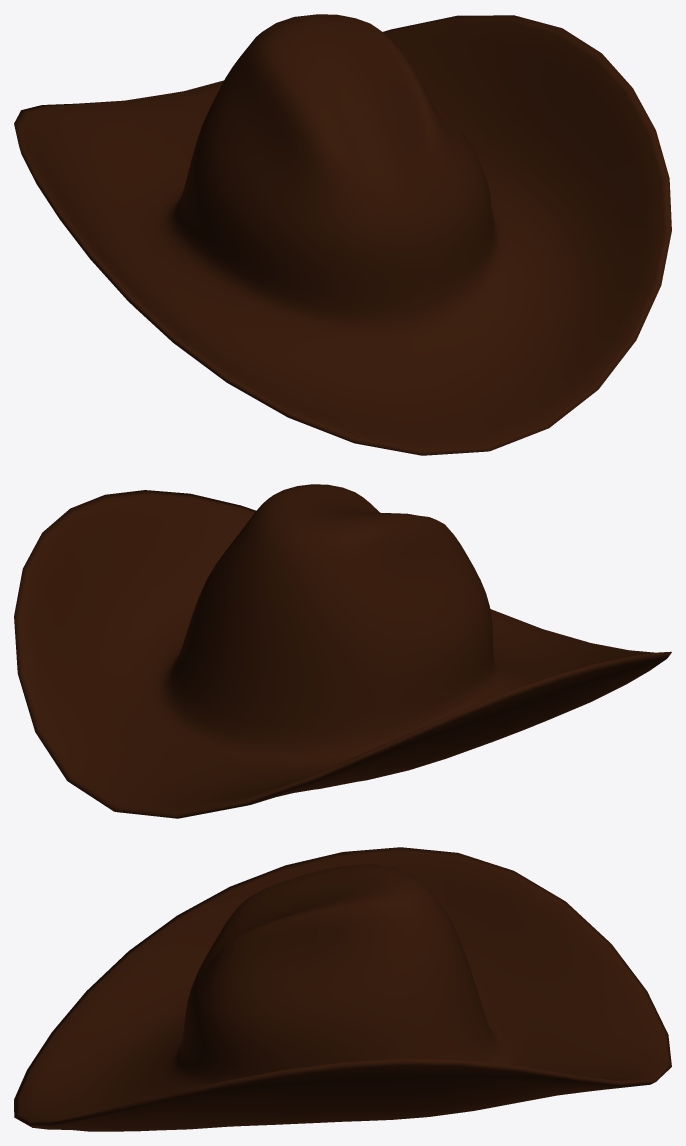
The model's file is Chapeu.fbx.
3 views of the same model, one above another, from view 1: azimuth 30°, elevation 25°; view 2: azimuth 150°, elevation 25°; view 3: azimuth 270°, elevation 25° (orthographic). The views are drawn at different scales.
Parts seen in each view (by area): view 1: Mesh.001; view 2: Mesh.001; view 3: Mesh.001.
Boxes of the visible parts, x1,y1,x2,y2 form: Mesh.001: (14,14,671,455); Mesh.001: (14,484,671,818); Mesh.001: (14,847,671,1131).
Size of the model in its own units: 61.69 by 28.9 by 73.18.
Materials: 1 (1 with a texture image).
